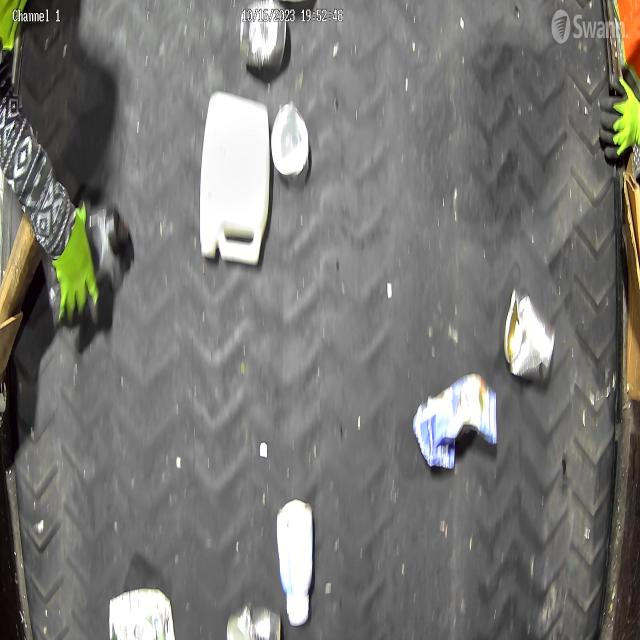can: (504, 292, 554, 396), (263, 95, 314, 186), (238, 0, 292, 80), (226, 604, 286, 640)
milk_jug: (196, 95, 276, 268)
